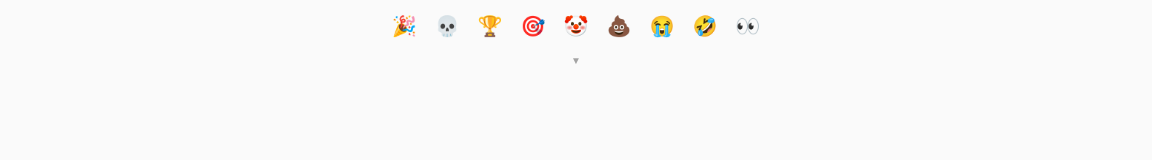
Test: ReactionBar › expand button toggles extra emojis
Click the button "▼".
click(576, 60)  # box top-left (8, 53), bottom-right (1144, 68)
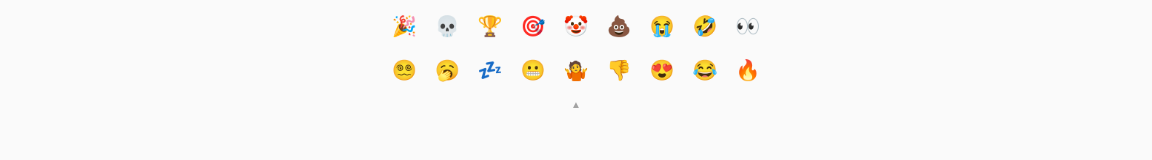
Check: the text "▲" is shown, box top-left (8, 97), bottom-right (1144, 112)
